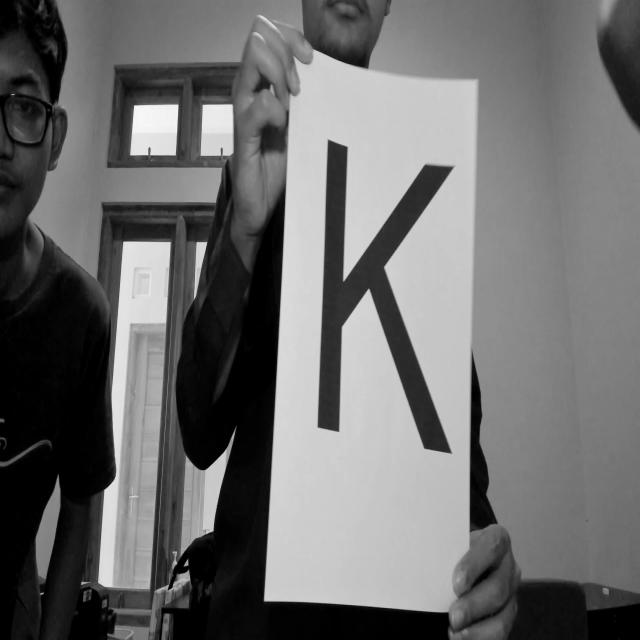k: (282, 135, 463, 465)
